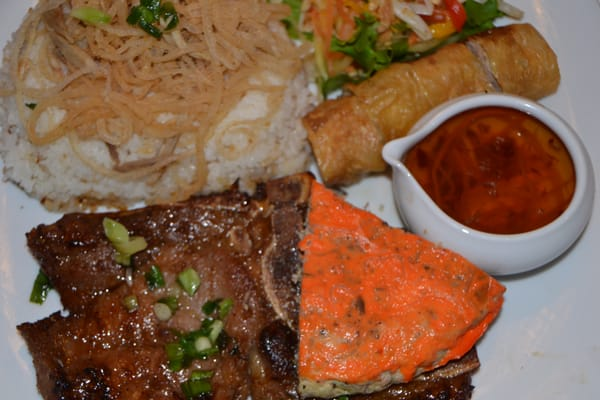curry: (126, 0, 180, 38)
sushi: (381, 92, 598, 277)
